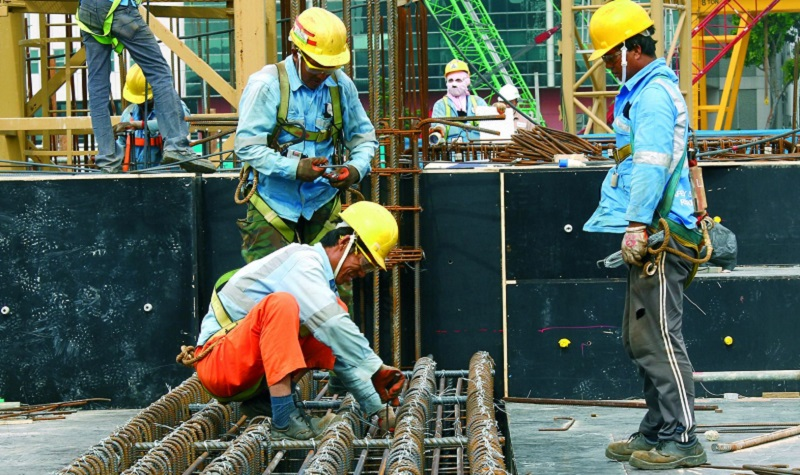Safety Helmet: (567, 1, 686, 118), (311, 187, 407, 308), (275, 4, 359, 101), (439, 49, 476, 114)
